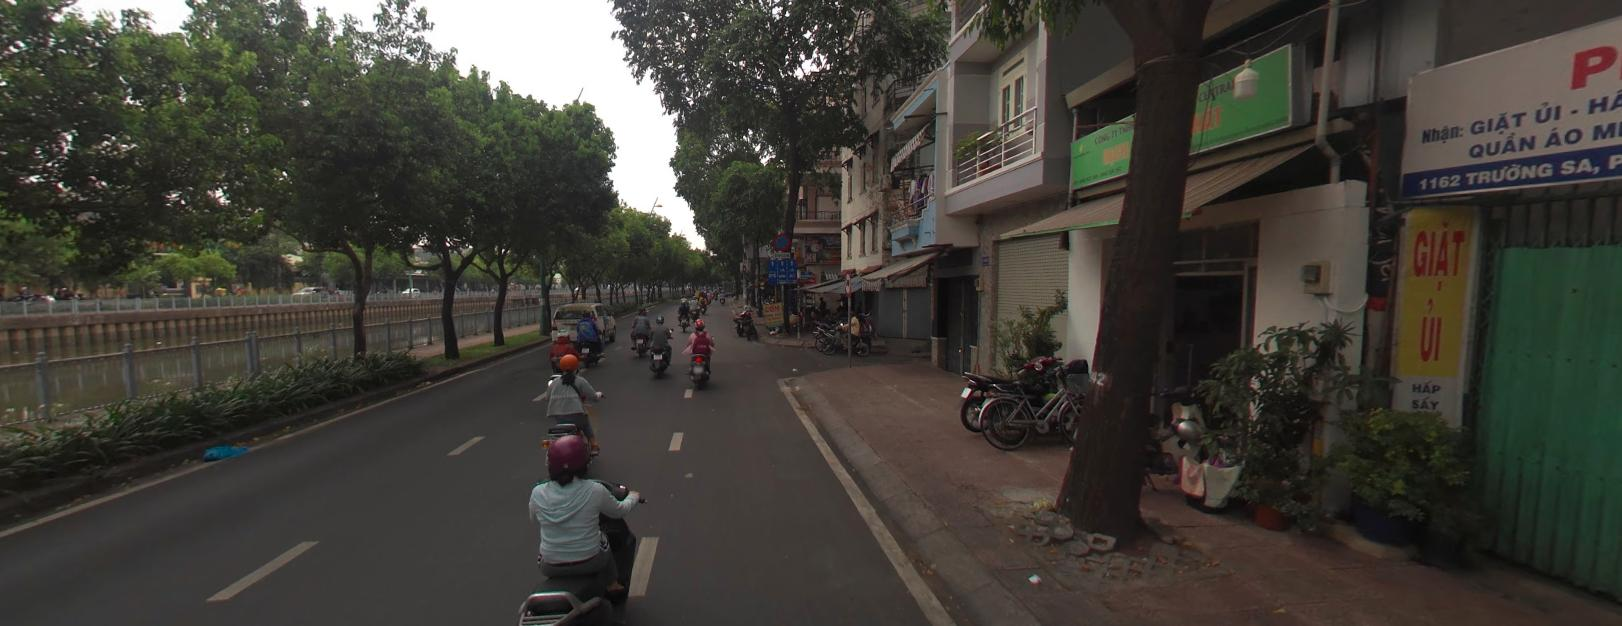Cam dung va do: (773, 232, 791, 248)
